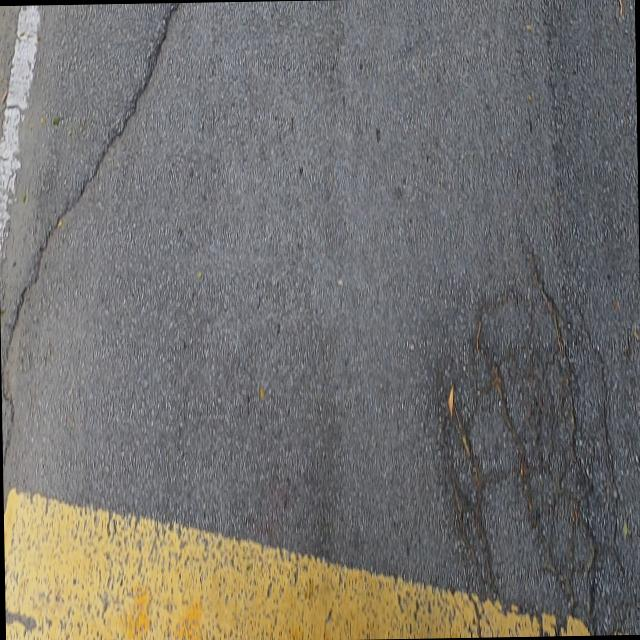Retak-Buaya: (438, 259, 633, 637)
Retak-Memanjang: (1, 5, 178, 465)
